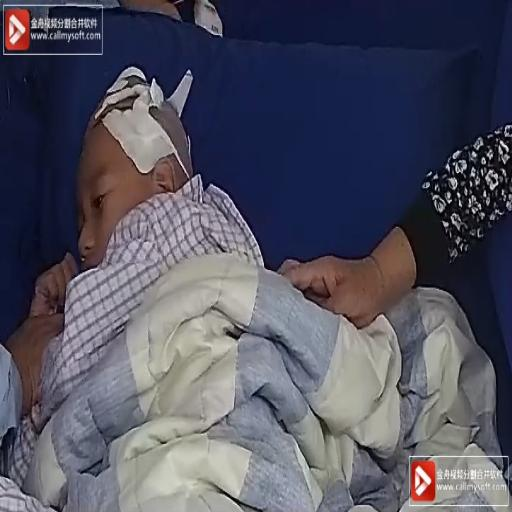Seizure: (74, 89, 196, 262)
